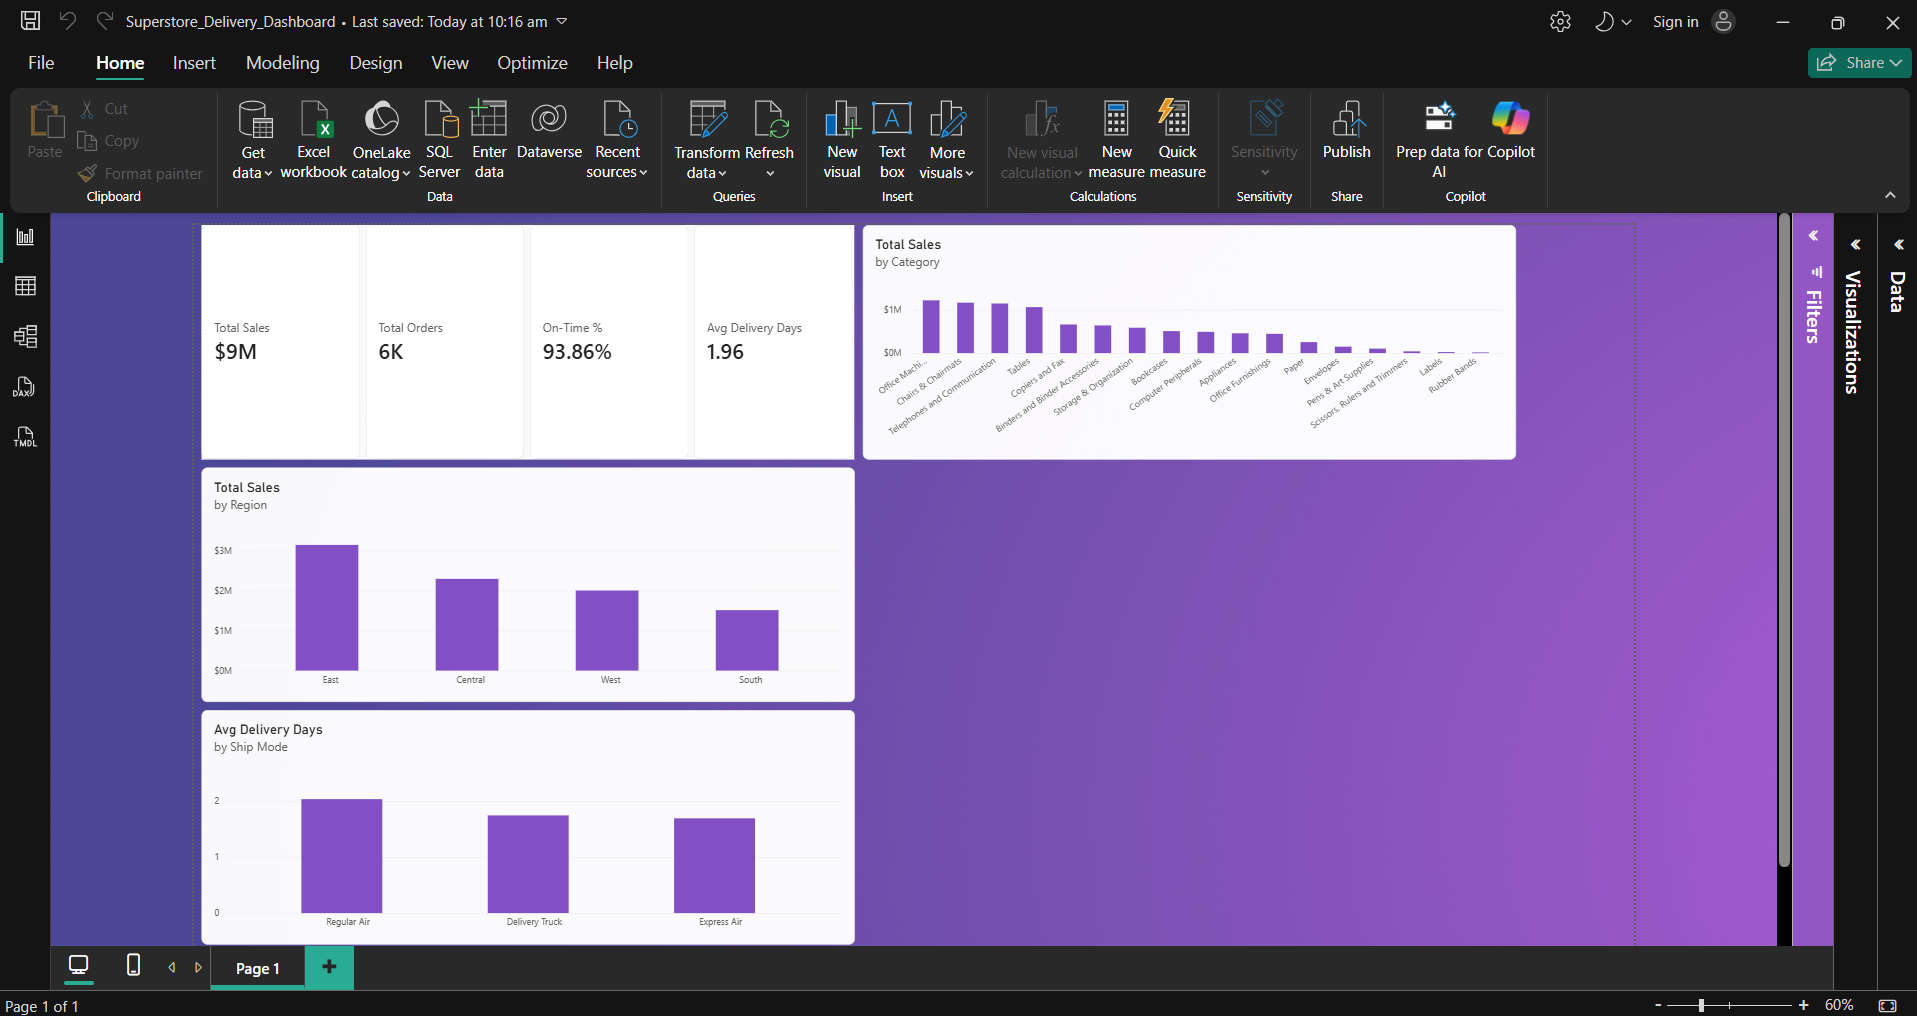

The page's visual inventory and layout, read from the dashboard file:
{"tool":"powerbi","page":{"name":"Page 1","canvas":[1920,1080],"ordinal":0},"visuals":[{"type":"cardVisual","fields":{"Data":["Superstore.Total Sales","Superstore.Total Orders","Superstore.On-Time %","Superstore.Avg Delivery Days"]},"box":[10.3,0,870.7,312.9],"z":0},{"type":"clusteredColumnChart","fields":{"Category":["Superstore.Region"],"Y":["Superstore.Total Sales"]},"box":[10,323,871,313],"z":1000},{"type":"clusteredColumnChart","fields":{"Category":["Superstore.Ship Mode"],"Y":["Superstore.Avg Delivery Days"]},"box":[10,646,871,313],"z":2000},{"type":"clusteredColumnChart","fields":{"Category":["Superstore.Category"],"Y":["Superstore.Total Sales"]},"box":[891,0,871,313],"z":3000}]}

Visuals, with their boxes on the page's 1920x1080 design canvas (x1, y1, x2, y2). These are canvas units, not pixel positions in the 1917x1016 screenshot, which may show the page scaled, cropped or inside an application window:
cardVisual - Superstore.Total Sales x Superstore.Total Orders: <box>10,0,881,313</box>
clusteredColumnChart - Superstore.Region x Superstore.Total Sales: <box>10,323,881,636</box>
clusteredColumnChart - Superstore.Ship Mode x Superstore.Avg Delivery Days: <box>10,646,881,959</box>
clusteredColumnChart - Superstore.Category x Superstore.Total Sales: <box>891,0,1762,313</box>
